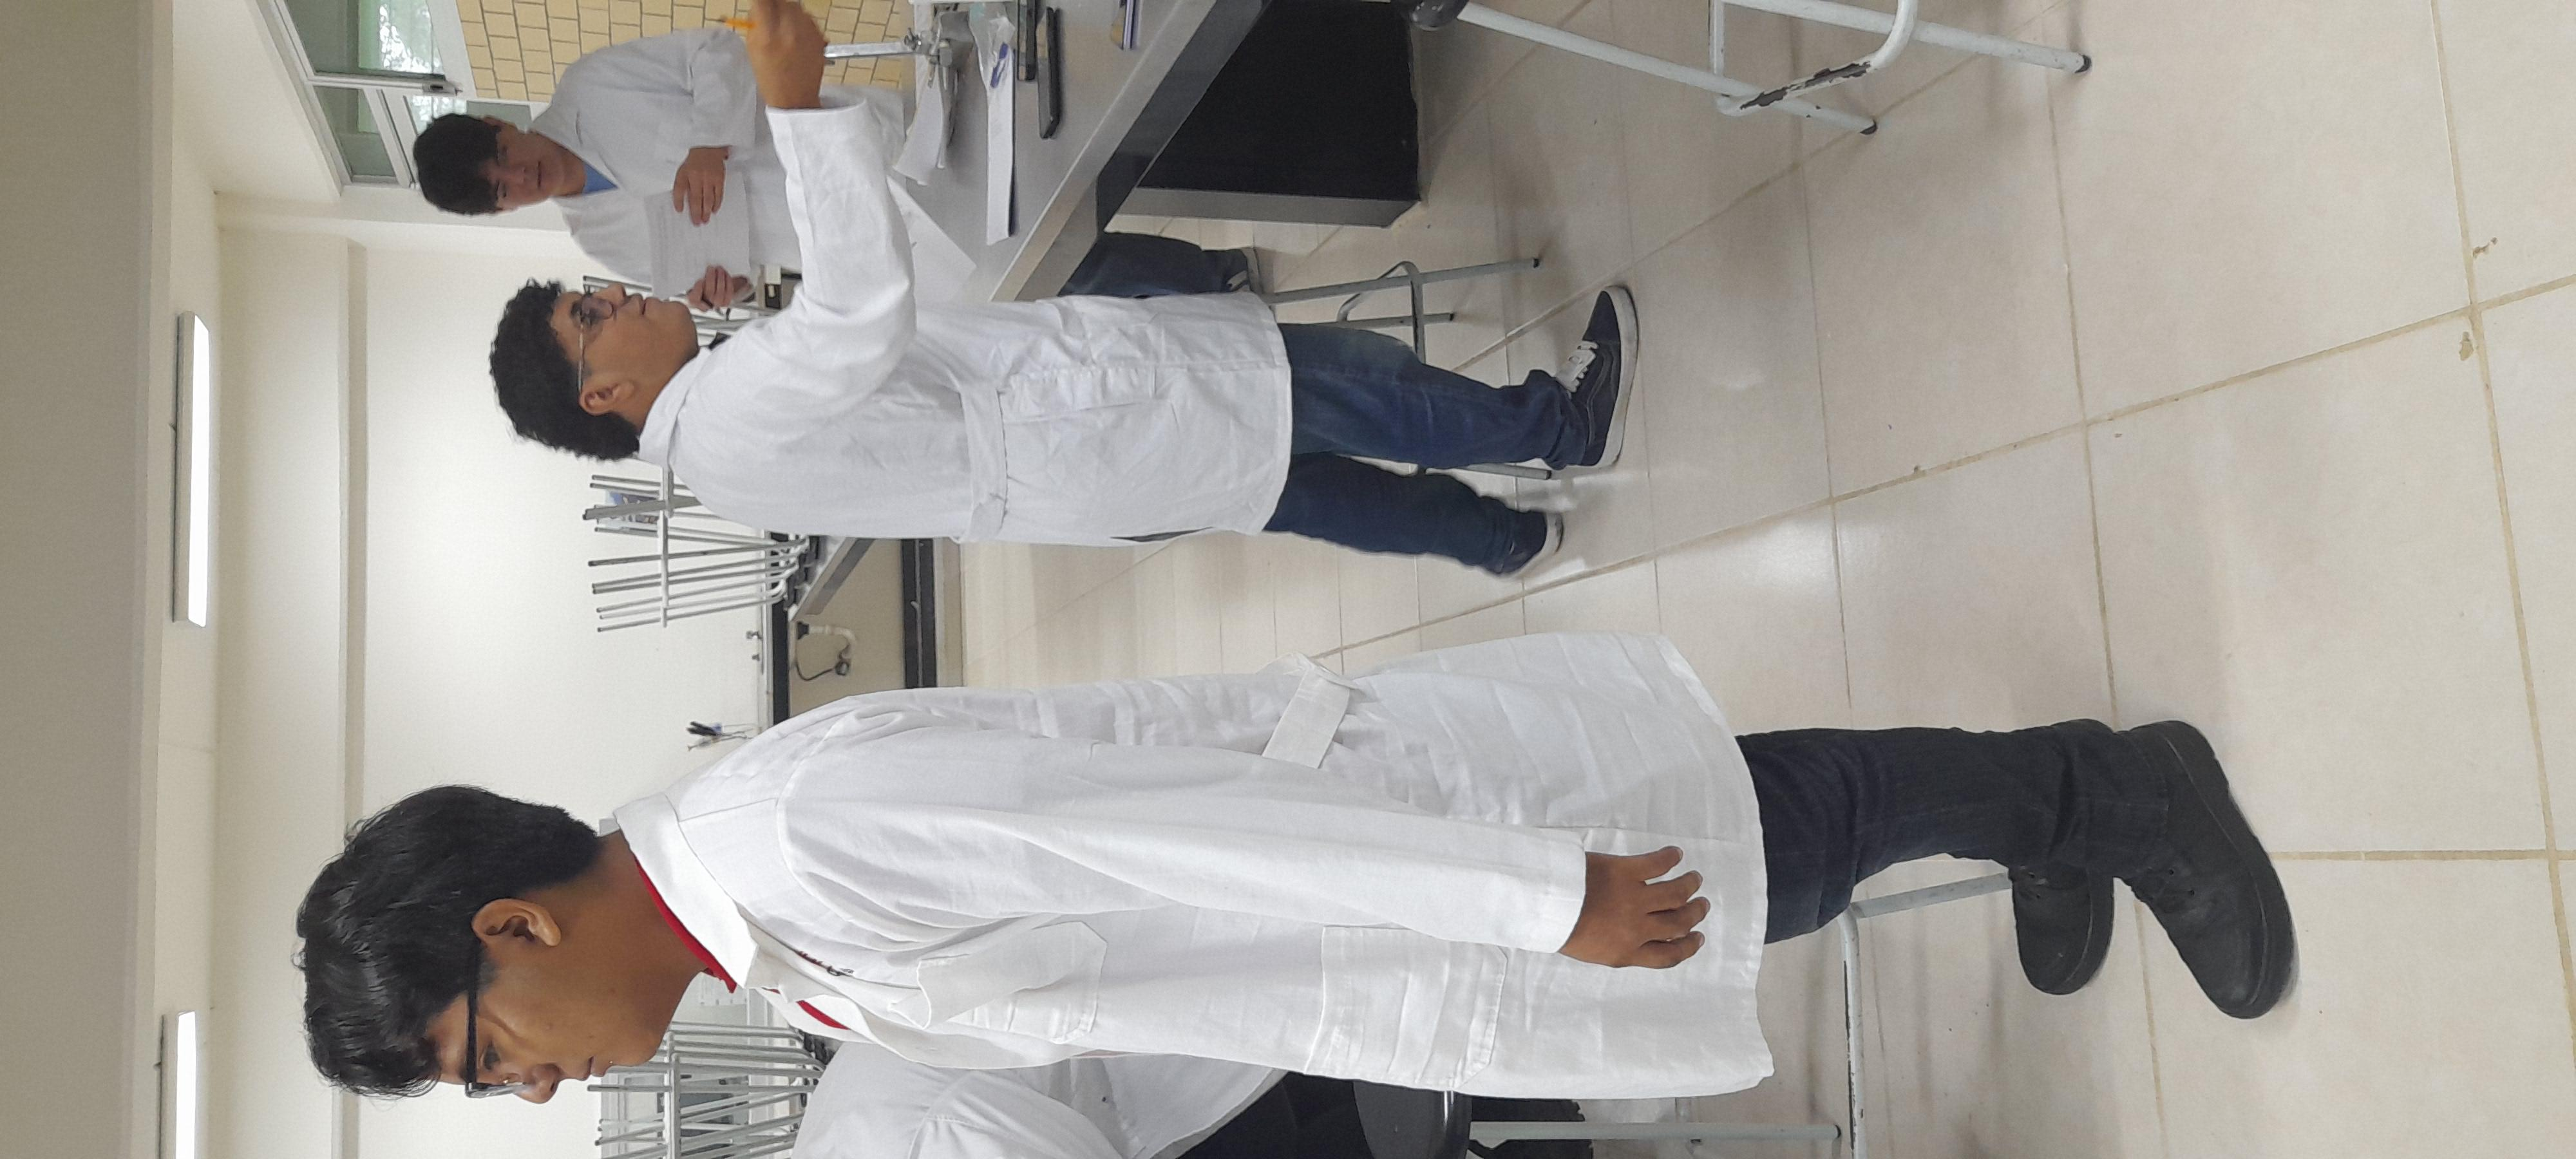Bata-Correcta: (126, 135, 1165, 1033), (1293, 222, 2574, 737)
